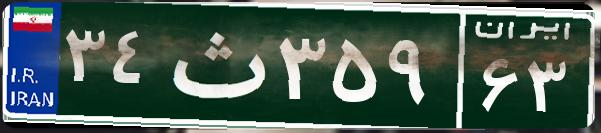3: (273, 28, 330, 110), (57, 26, 110, 107), (525, 38, 570, 115)
4: (110, 28, 158, 105)
5: (330, 28, 385, 110)
6: (475, 38, 525, 113)
9: (385, 28, 445, 110)
ث: (158, 15, 273, 115)
